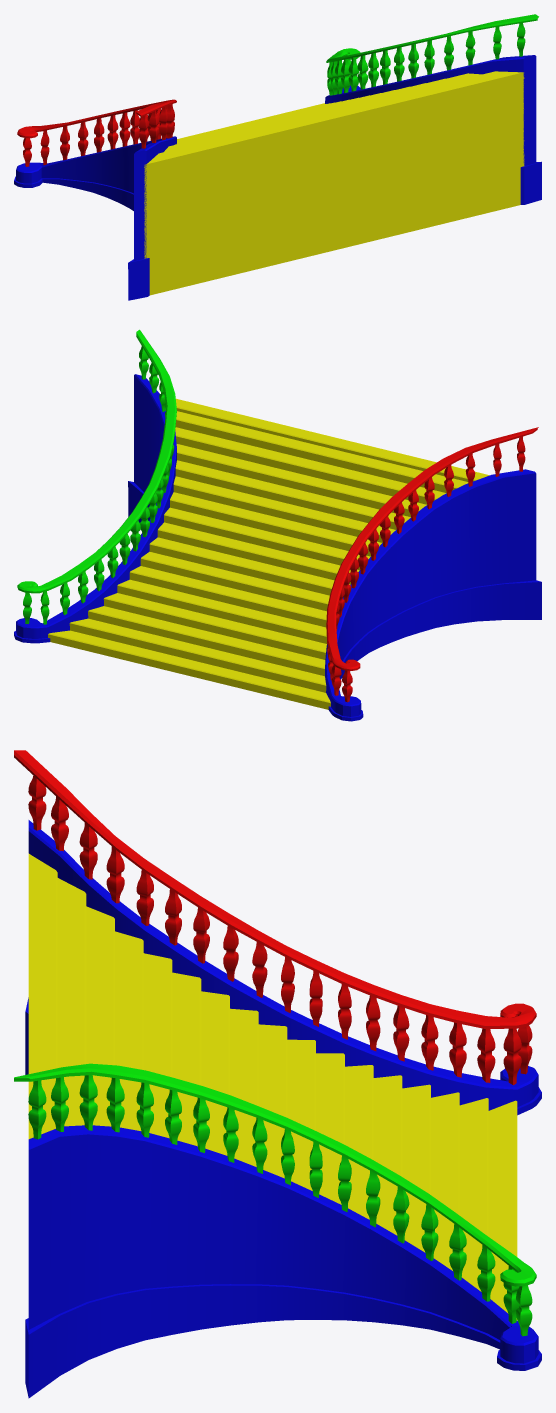
The model's file is escalier.fbx.
The picture shows the model from 3 angles, top to bottom: view 1: azimuth 30°, elevation 25°; view 2: azimuth 150°, elevation 25°; view 3: azimuth 270°, elevation 25°; orthographic projection. The views are drawn at different scales.
Visible parts, largest first — view 1: polySurface6, polySurface35, polySurface34, polySurface31, polySurface33; view 2: polySurface6, polySurface35, polySurface34, polySurface31, polySurface33; view 3: polySurface34, polySurface6, polySurface35, polySurface33, polySurface31, poto20, poto60, poto28, poto56, poto22.
Boxes of the visible parts, x1=… form: polySurface6: x1=144, y1=71, x2=524, y2=295; polySurface35: x1=14, y1=136, x2=176, y2=300; polySurface34: x1=325, y1=55, x2=541, y2=204; polySurface31: x1=326, y1=14, x2=538, y2=62; polySurface33: x1=17, y1=99, x2=176, y2=138; polySurface6: x1=48, y1=398, x2=489, y2=709; polySurface35: x1=325, y1=469, x2=541, y2=721; polySurface34: x1=14, y1=374, x2=176, y2=643; polySurface31: x1=17, y1=329, x2=176, y2=593; polySurface33: x1=326, y1=427, x2=538, y2=671; polySurface34: x1=25, y1=1125, x2=541, y2=1398; polySurface6: x1=28, y1=853, x2=517, y2=1320; polySurface35: x1=25, y1=820, x2=541, y2=1115; polySurface33: x1=14, y1=750, x2=536, y2=1028; polySurface31: x1=14, y1=1063, x2=536, y2=1286; poto20: x1=28, y1=1080, x2=46, y2=1139; poto60: x1=503, y1=1028, x2=521, y2=1085; poto28: x1=79, y1=1075, x2=97, y2=1130; poto56: x1=106, y1=846, x2=124, y2=903; poto22: x1=106, y1=1077, x2=124, y2=1132.
Bounding box in the file's own units: 985 × 427 × 648.
